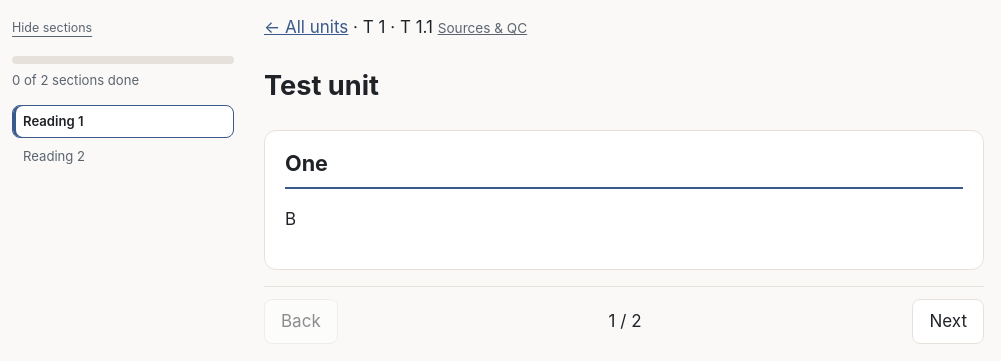
UnitPlayer › can collapse the section column and bring it back
Expected: the button "Reading 1" is shown, [12,105,234,138]
Click the button "Hide sections" at (52,31), box [12,16,92,46]
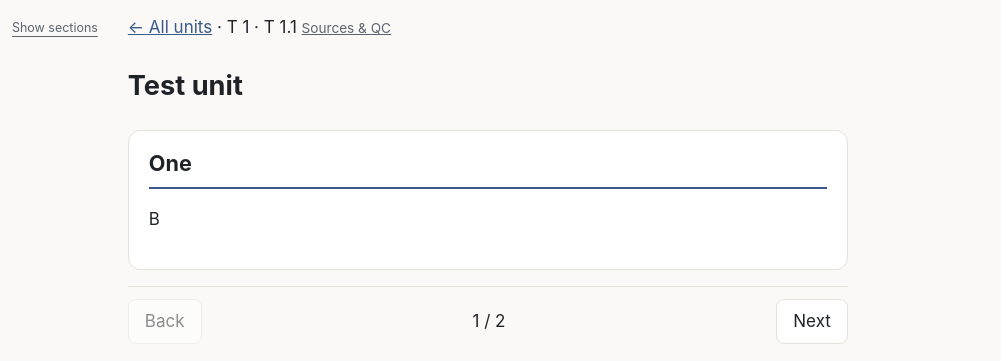
Expected: the button "Reading 1" is gone
Click the button "Show sections" at (55,31), box [12,16,98,46]
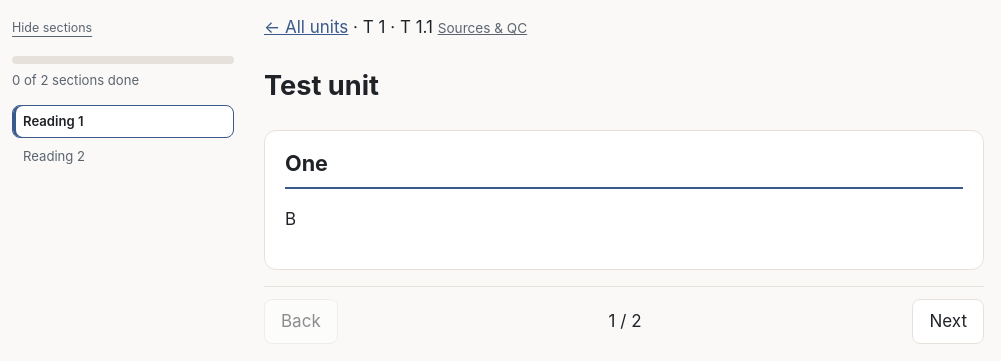
Expected: the button "Reading 1" is shown, [12,105,234,138]
